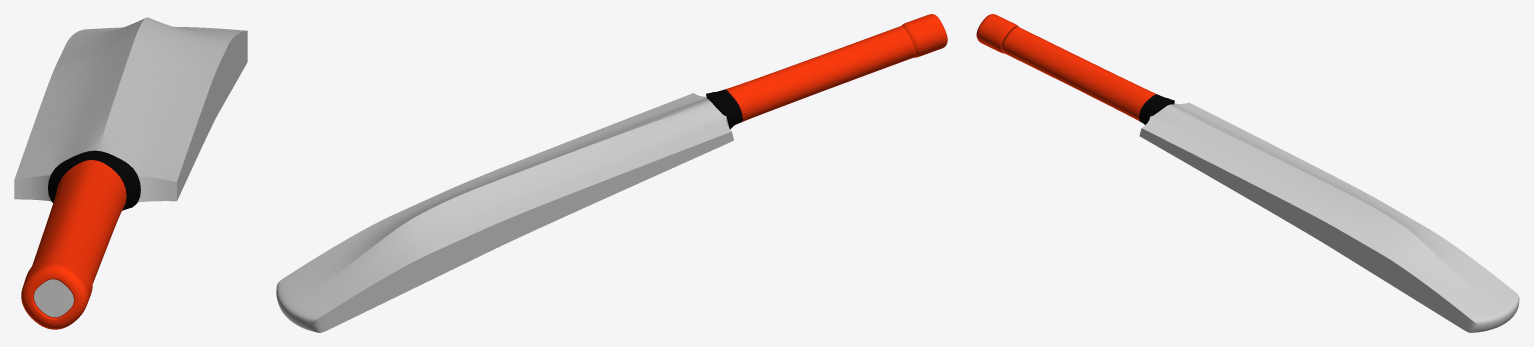
File: Cricket bat 2_0.fbx
The picture shows the model from 3 angles, left to right: view 1: azimuth 30°, elevation 25°; view 2: azimuth 150°, elevation 25°; view 3: azimuth 270°, elevation 25°; orthographic projection. The views are drawn at different scales.
Visible parts, largest first — view 1: Bat, Handel; view 2: Bat, Handel; view 3: Bat, Handel.
Part boxes in pixels (x1,y1,x2,y2): Bat: (14,17,247,317); Handel: (21,150,140,329); Bat: (276,93,733,332); Handel: (706,14,947,129); Bat: (1139,102,1519,332); Handel: (976,14,1174,124).
Size of the model in its own units: 542 by 232 by 726.
